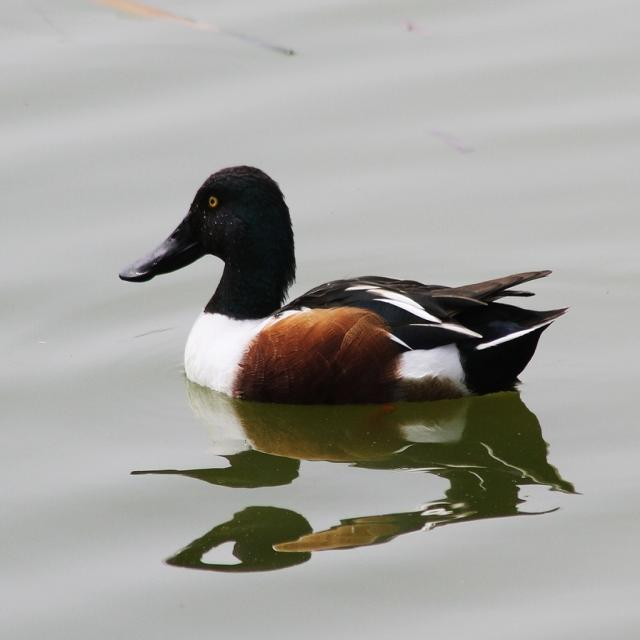bird: (116, 160, 579, 400)
